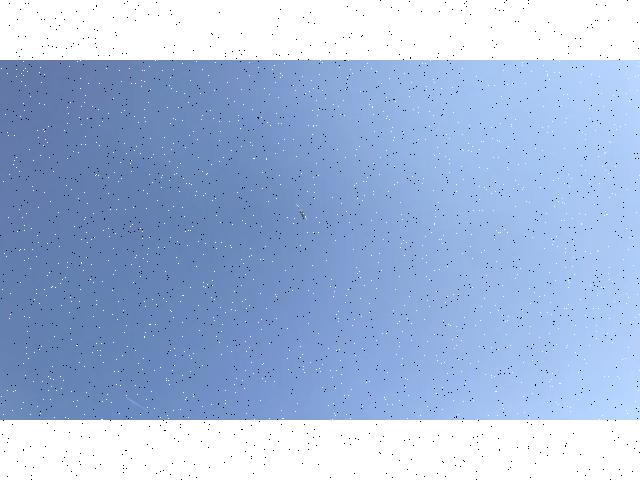Anti-Drone: (288, 198, 324, 224)
